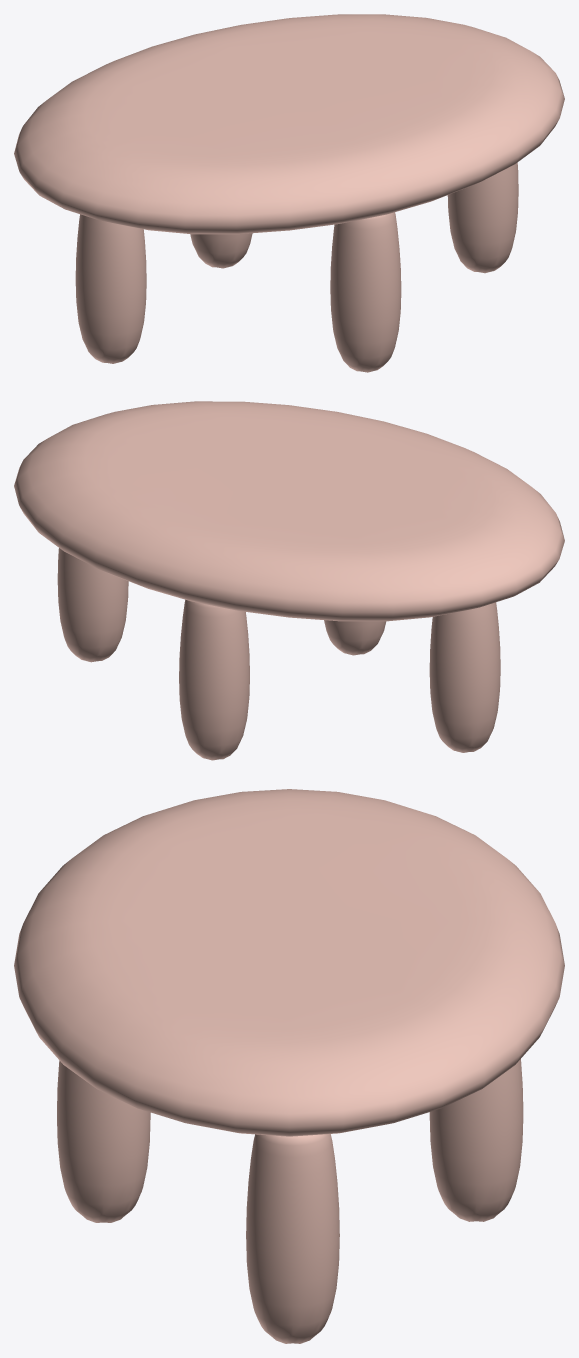
File: table.fbx
3 views of the same model, one above another, from view 1: azimuth 30°, elevation 25°; view 2: azimuth 150°, elevation 25°; view 3: azimuth 270°, elevation 25° (orthographic). The views are drawn at different scales.
Visible parts, largest first — view 1: coffee table, Circle.004, Circle.002, Circle.001, Circle.003; view 2: coffee table, Circle.003, Circle.002, Circle.001, Circle.004; view 3: coffee table, Circle.001, Circle.004, Circle.003.
Part boxes in pixels (<box>): coffee table: <box>14,14,564,234</box>; Circle.004: <box>330,212,401,372</box>; Circle.002: <box>75,214,146,363</box>; Circle.001: <box>447,162,518,273</box>; Circle.003: <box>190,233,252,268</box>; coffee table: <box>14,401,564,621</box>; Circle.003: <box>179,599,249,760</box>; Circle.002: <box>429,602,500,752</box>; Circle.001: <box>57,548,128,662</box>; Circle.004: <box>324,620,386,655</box>; coffee table: <box>14,789,564,1136</box>; Circle.001: <box>246,1134,339,1343</box>; Circle.004: <box>57,1060,150,1222</box>; Circle.003: <box>429,1059,523,1221</box>.
Bounding box in the file's own units: 0.8948 × 0.383 × 0.643.
